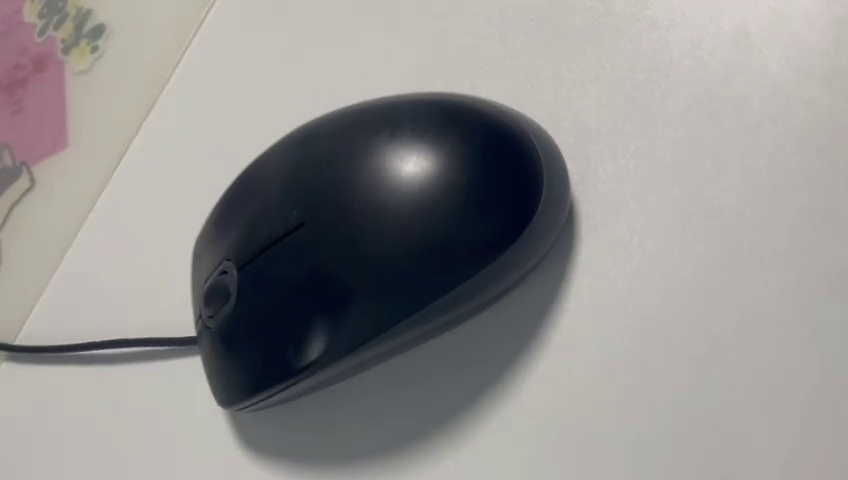objeto: (151, 126, 595, 422)
